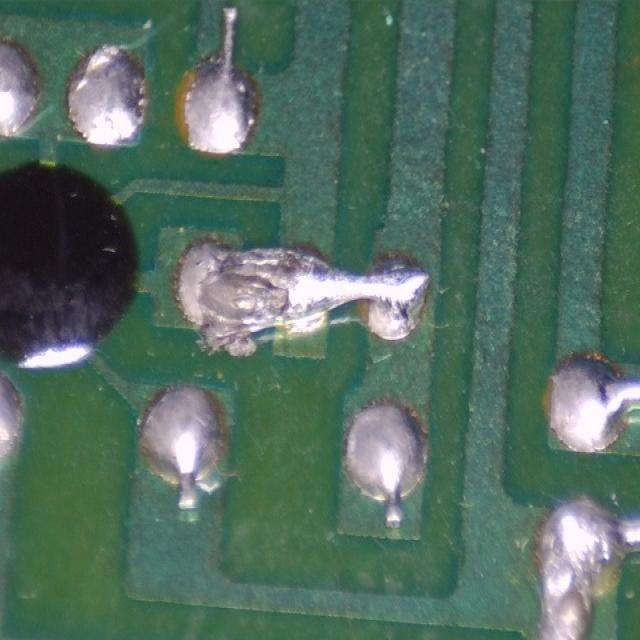Short_circuit: (180, 243, 430, 355)
